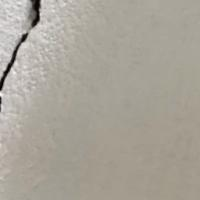crack: (0, 0, 55, 98)
